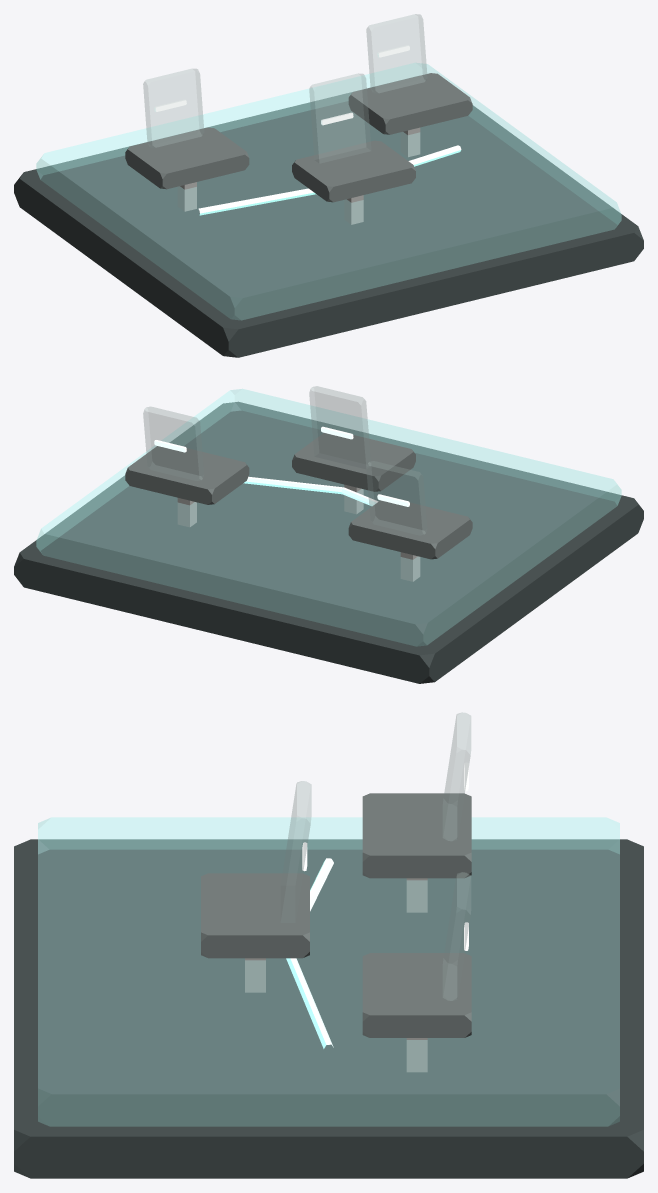
Rendered from function-platform.glb.
The picture shows the model from 3 angles, top to bottom: view 1: azimuth 30°, elevation 25°; view 2: azimuth 150°, elevation 25°; view 3: azimuth 270°, elevation 25°; orthographic projection. The views are drawn at different scales.
Visible parts, largest first — view 1: Zone_Base, Zone_Field, Station_1_Desk, Station_3_Desk, Station_2_Desk, Station_2_Screen, Station_3_Screen, Station_1_Screen, Zone_Internal_Flow, Station_3_Leg, Station_2_Leg, Station_1_Leg; view 2: Zone_Base, Zone_Field, Station_1_Desk, Station_3_Desk, Station_2_Desk, Station_2_Screen, Station_1_Screen, Station_3_Screen, Zone_Internal_Flow, Station_1_Leg, Station_3_Leg; view 3: Zone_Base, Zone_Field, Station_1_Desk, Station_2_Desk, Station_3_Desk, Station_2_Screen, Station_3_Screen, Station_1_Screen, Zone_Internal_Flow, Station_1_Leg, Station_3_Leg, Station_2_Leg.
Part boxes in pixels (<box>): Zone_Base: <box>14,92,643,357</box>; Zone_Field: <box>36,63,621,320</box>; Station_1_Desk: <box>125,127,249,189</box>; Station_3_Desk: <box>348,73,472,134</box>; Station_2_Desk: <box>292,140,415,202</box>; Station_2_Screen: <box>309,73,371,162</box>; Station_3_Screen: <box>366,14,427,92</box>; Station_1_Screen: <box>143,69,203,147</box>; Zone_Internal_Flow: <box>198,145,461,215</box>; Station_3_Leg: <box>400,127,420,157</box>; Station_2_Leg: <box>344,195,363,224</box>; Station_1_Leg: <box>177,182,196,211</box>; Zone_Base: <box>14,401,643,683</box>; Zone_Field: <box>36,388,621,646</box>; Station_1_Desk: <box>348,500,472,559</box>; Station_3_Desk: <box>125,446,249,504</box>; Station_2_Desk: <box>292,433,415,491</box>; Station_2_Screen: <box>309,386,370,468</box>; Station_1_Screen: <box>366,461,427,535</box>; Station_3_Screen: <box>143,406,203,480</box>; Zone_Internal_Flow: <box>243,476,378,505</box>; Station_1_Leg: <box>400,552,420,581</box>; Station_3_Leg: <box>177,498,196,527</box>; Zone_Base: <box>14,839,643,1178</box>; Zone_Field: <box>38,817,619,1126</box>; Station_1_Desk: <box>362,793,471,878</box>; Station_2_Desk: <box>201,873,309,958</box>; Station_3_Desk: <box>362,953,471,1037</box>; Station_2_Screen: <box>281,781,311,922</box>; Station_3_Screen: <box>443,872,470,1000</box>; Station_1_Screen: <box>443,712,470,840</box>; Zone_Internal_Flow: <box>286,858,333,1048</box>; Station_1_Leg: <box>406,878,427,912</box>; Station_3_Leg: <box>406,1038,427,1072</box>; Station_2_Leg: <box>245,958,265,992</box>.
Size of the model in its own units: 3.35 by 1.21 by 3.
